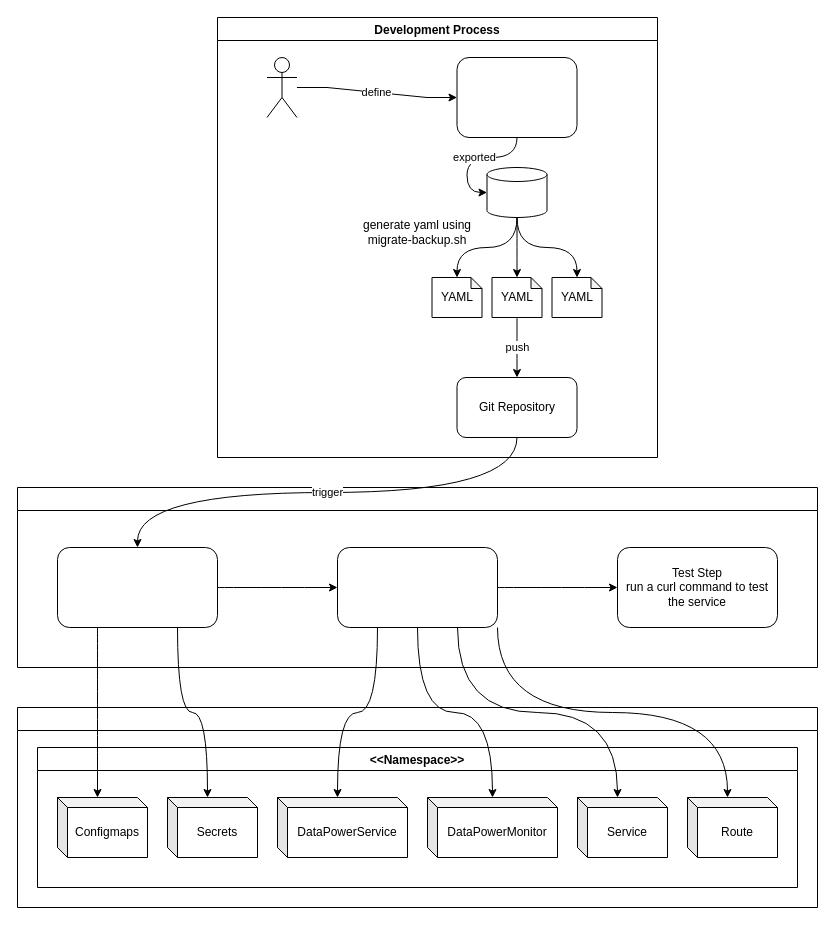
This 835x925 diagram has some shape labels left out. Here are the shapes that lost their labels. From the top down, the box of each, then its label:
(266, 56, 297, 118): Developer
(456, 56, 577, 138): DataPower on Docker
(486, 166, 547, 218): export.zip
(56, 546, 218, 628): Pre Deploy Stage creates the namespace, configmap, secrets
(16, 486, 818, 668): Jenkins Pipeline
(336, 546, 498, 628): Deploy Stage create DataPowerService, Service, Route
(16, 706, 818, 908): OpenShift Cluster
